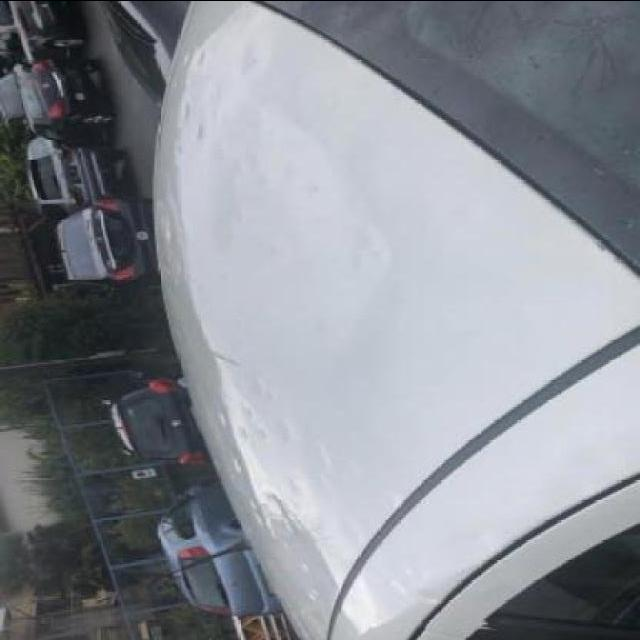roof-dent: (177, 16, 620, 375), (242, 357, 612, 640)
